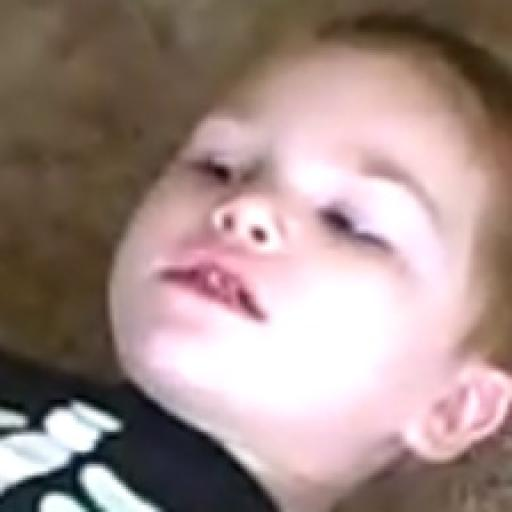Autism: (57, 54, 512, 474)
